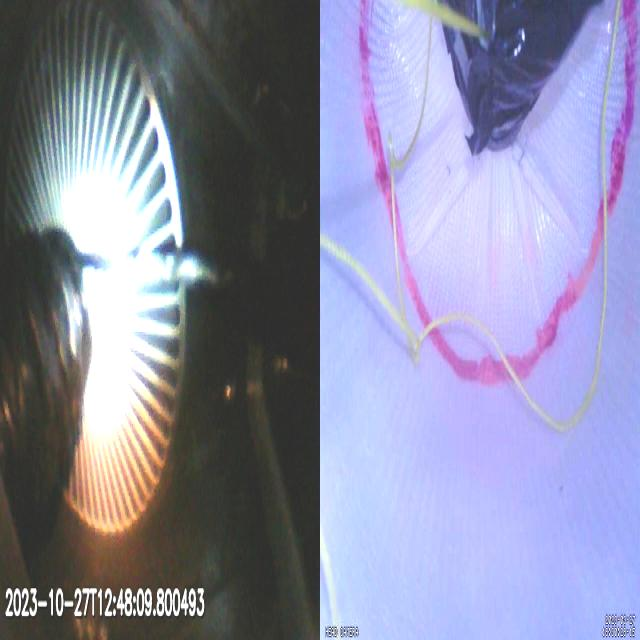red-circle: (357, 0, 637, 385)
